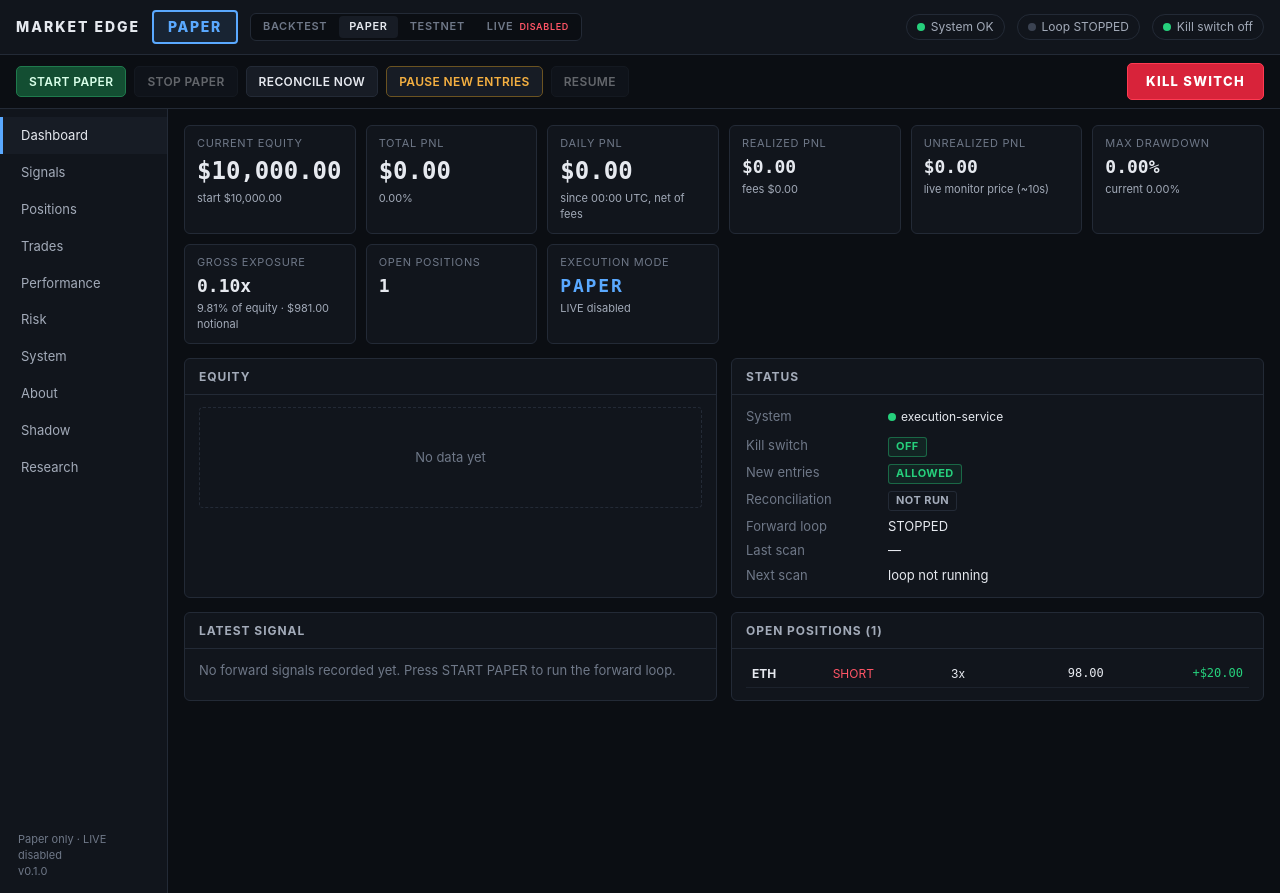
Trade Detail entry points › opens from a Dashboard open-position row
Click the text "ETH": (998, 674) x1=746 y1=662 x2=1249 y2=687
(page scrolled)
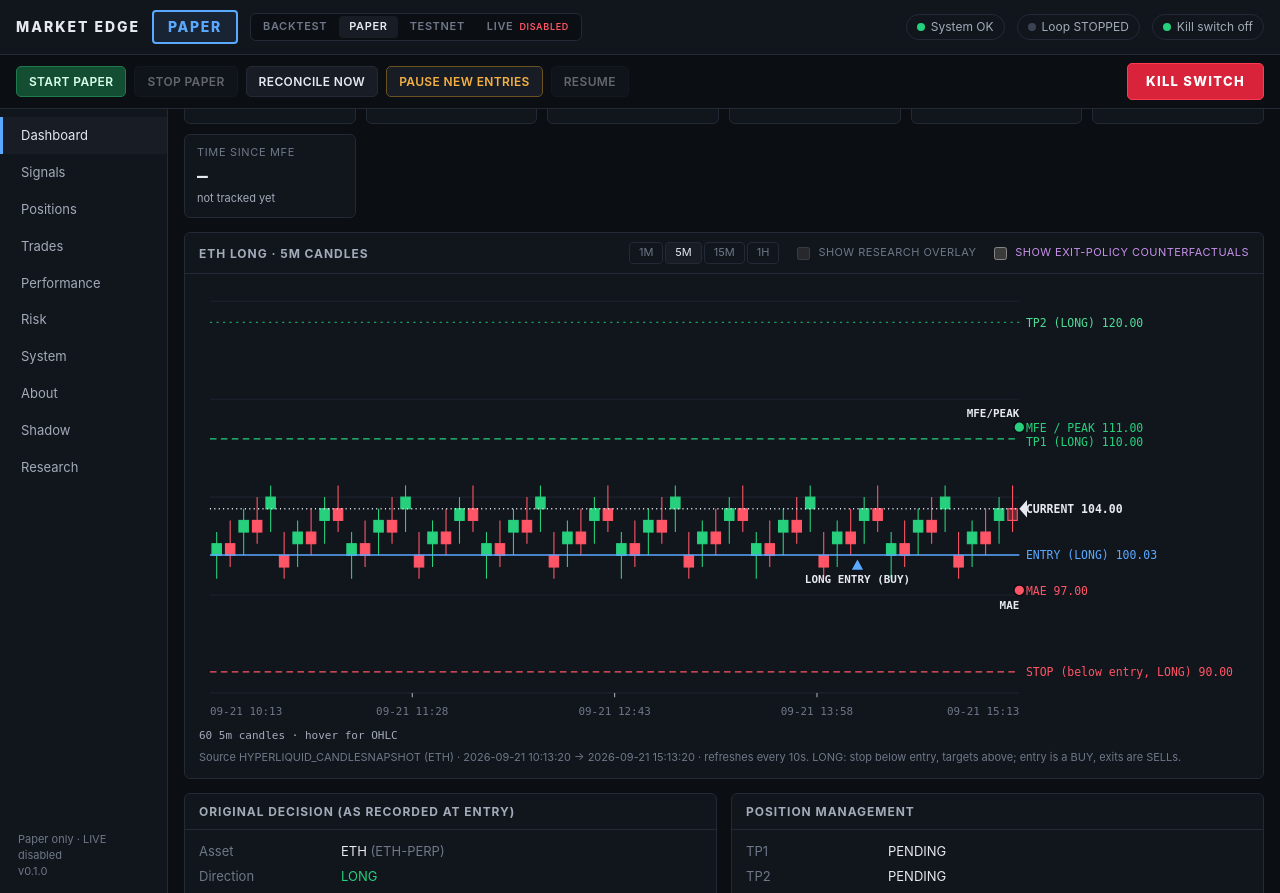
Check: the picture named "ETH LONG trade chart" is shown, box x1=199 y1=286 x2=1249 y2=724
